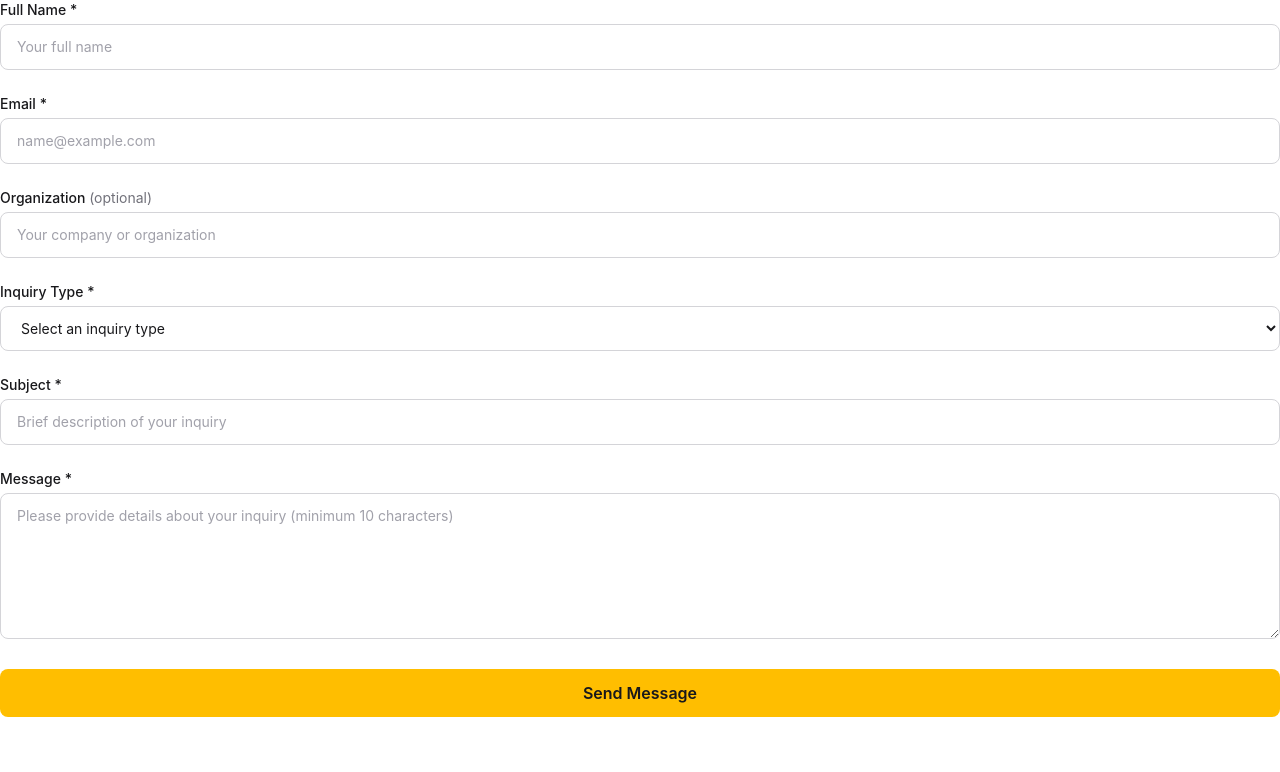
it: shows a server error inline when the API returns an error
This screenshot has width=1280, height=772.
Type "Ada Lovelace" into the field labelled "Full Name *" at coordinates (640, 47), box [0,24,1279,70]
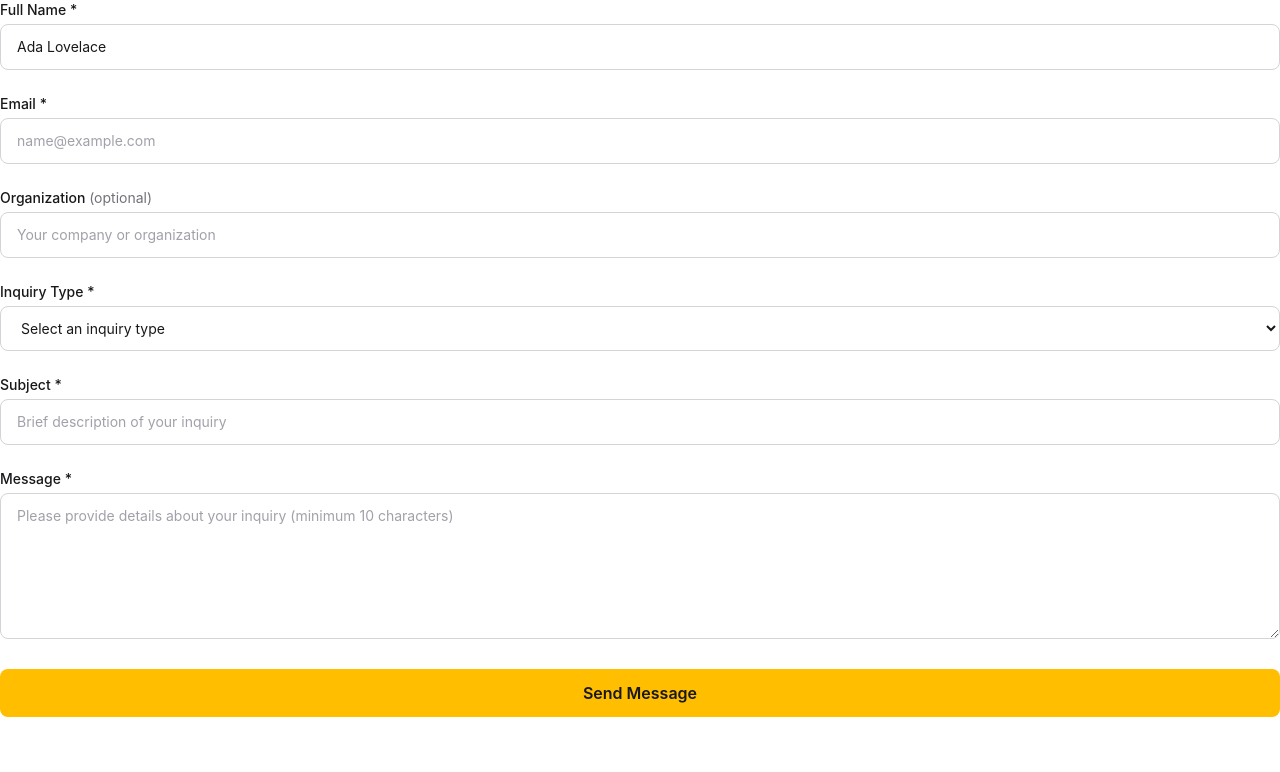
Type "ada@example.com" into the field labelled "Email *" at coordinates (640, 141), box [0,118,1279,164]
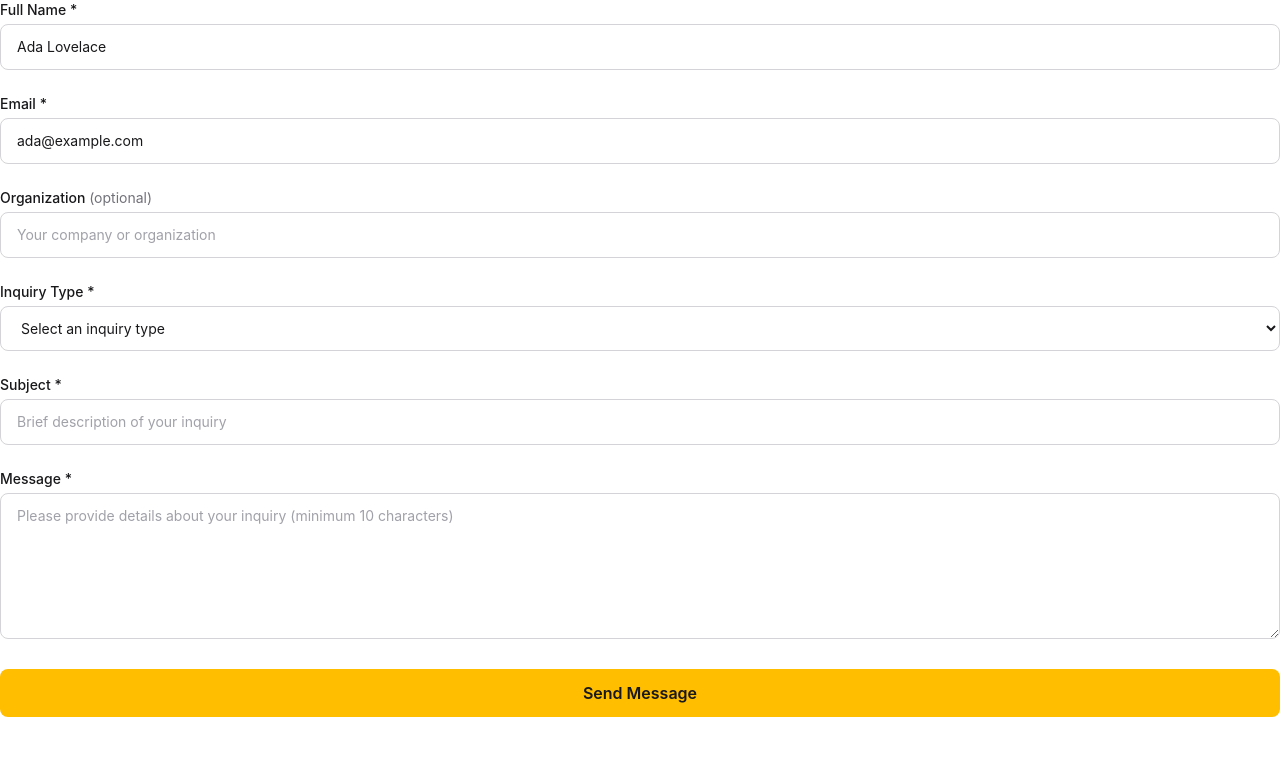
Select "General Inquiry" in the dropdown labelled "Inquiry Type *" at coordinates (640, 328), box [0,306,1279,351]
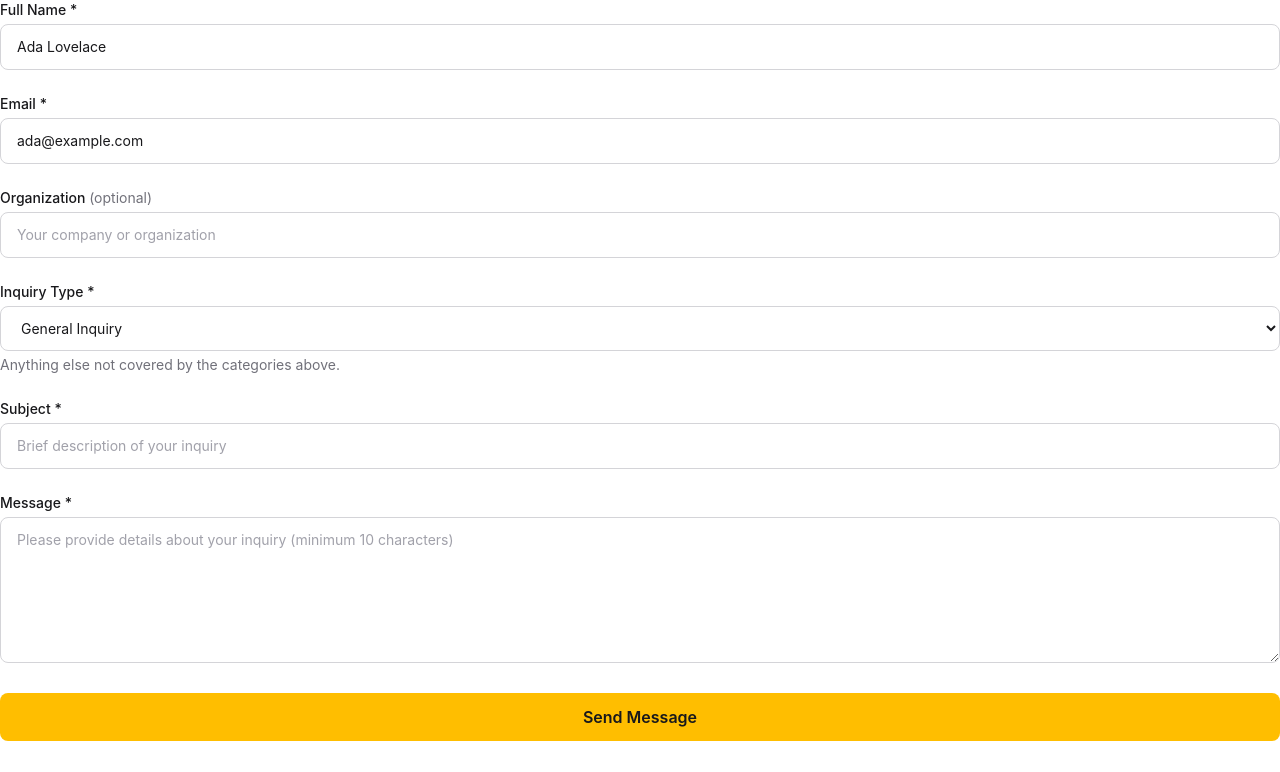
Type "Hi" into the field labelled "Subject *" at coordinates (640, 446), box [0,423,1279,469]
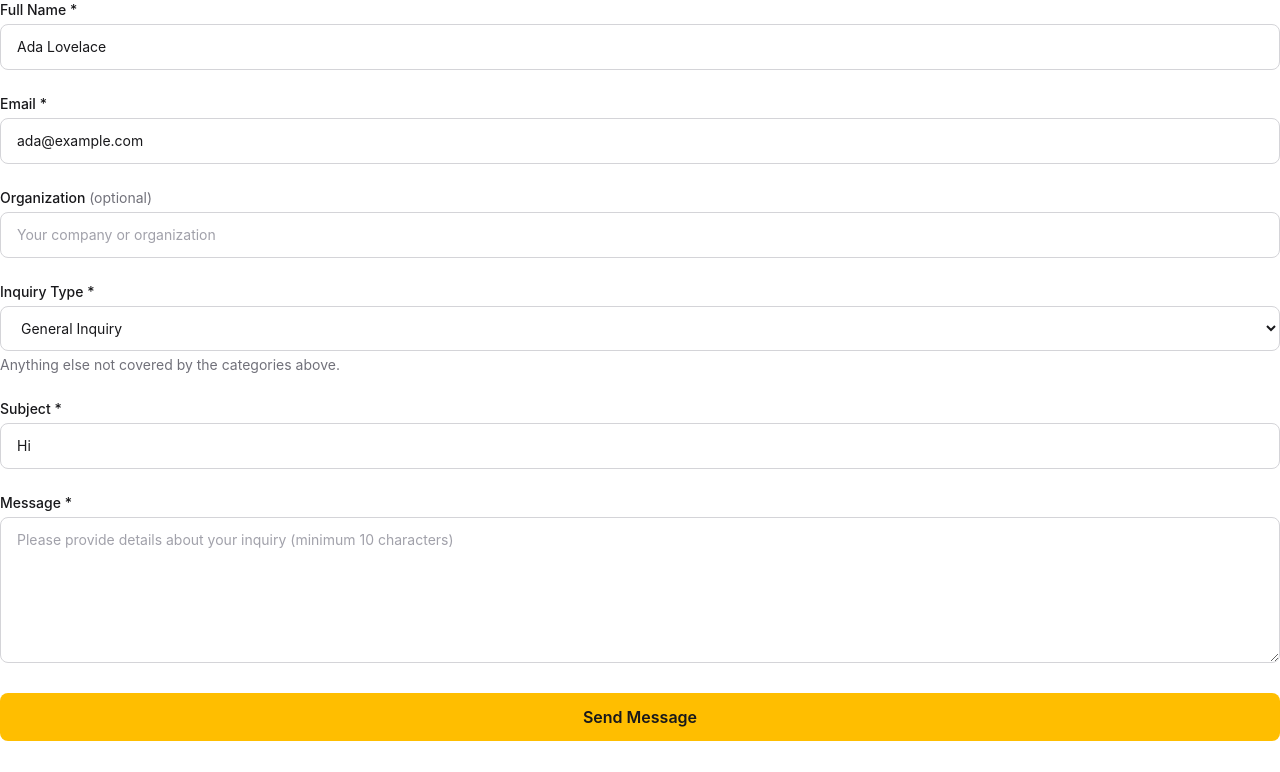
Replace the text in the text box labelled "Message *" with "This is a long enough message." at coordinates (640, 590), box [0,517,1279,663]
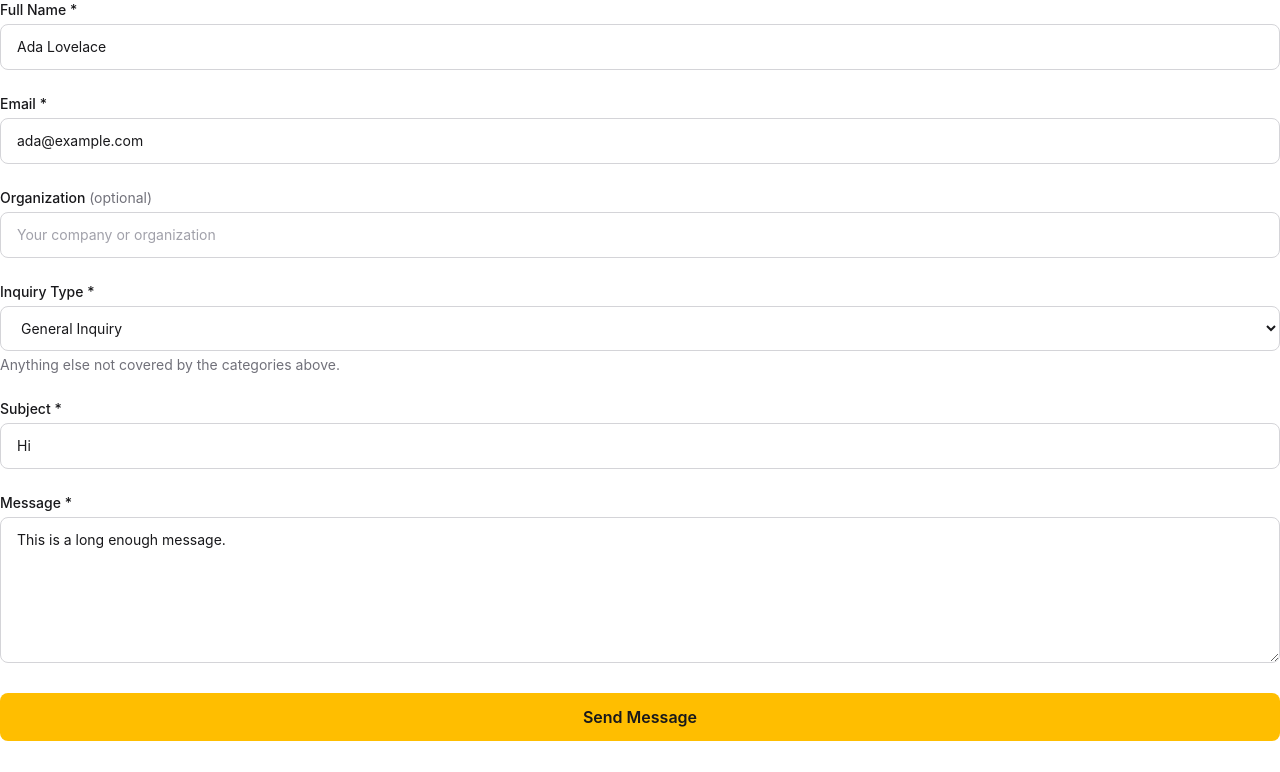
Click the button "Send Message" at coordinates (640, 717), box [0,693,1279,741]
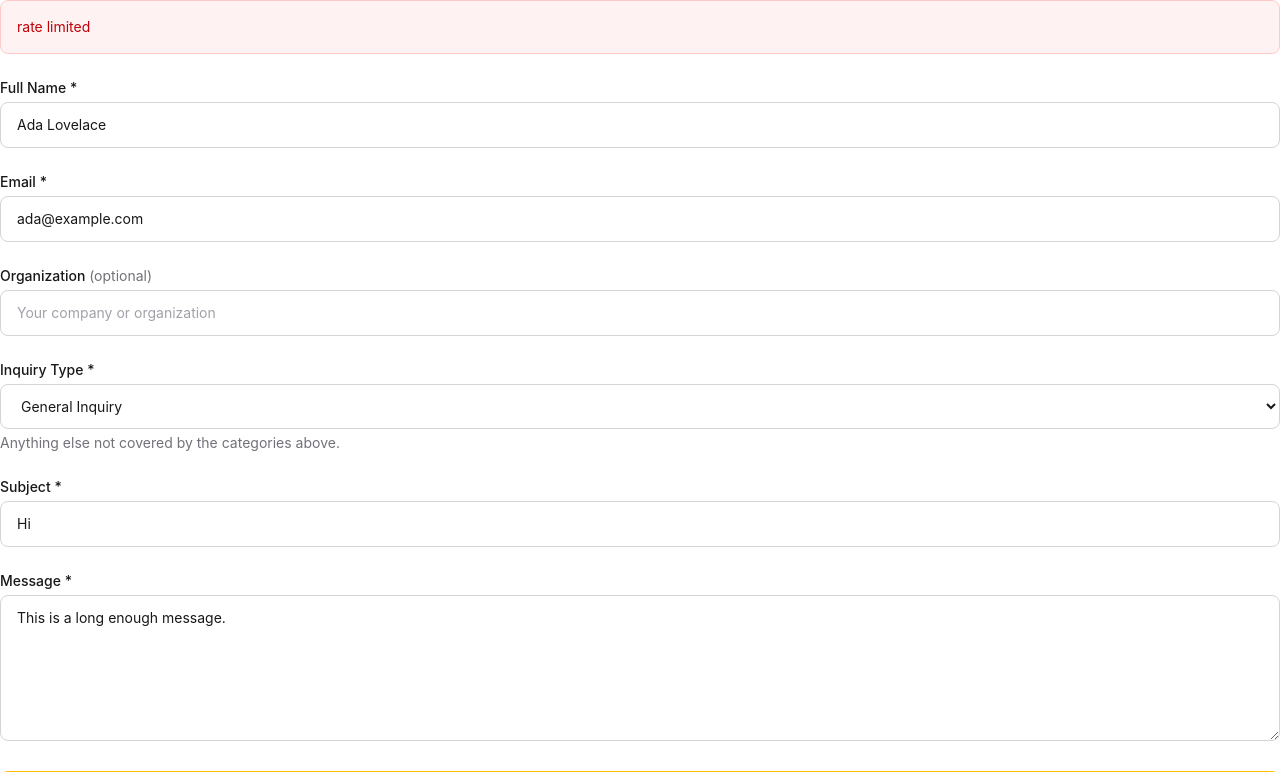
Check: the text "rate limited" is shown, box [0,0,1279,54]
